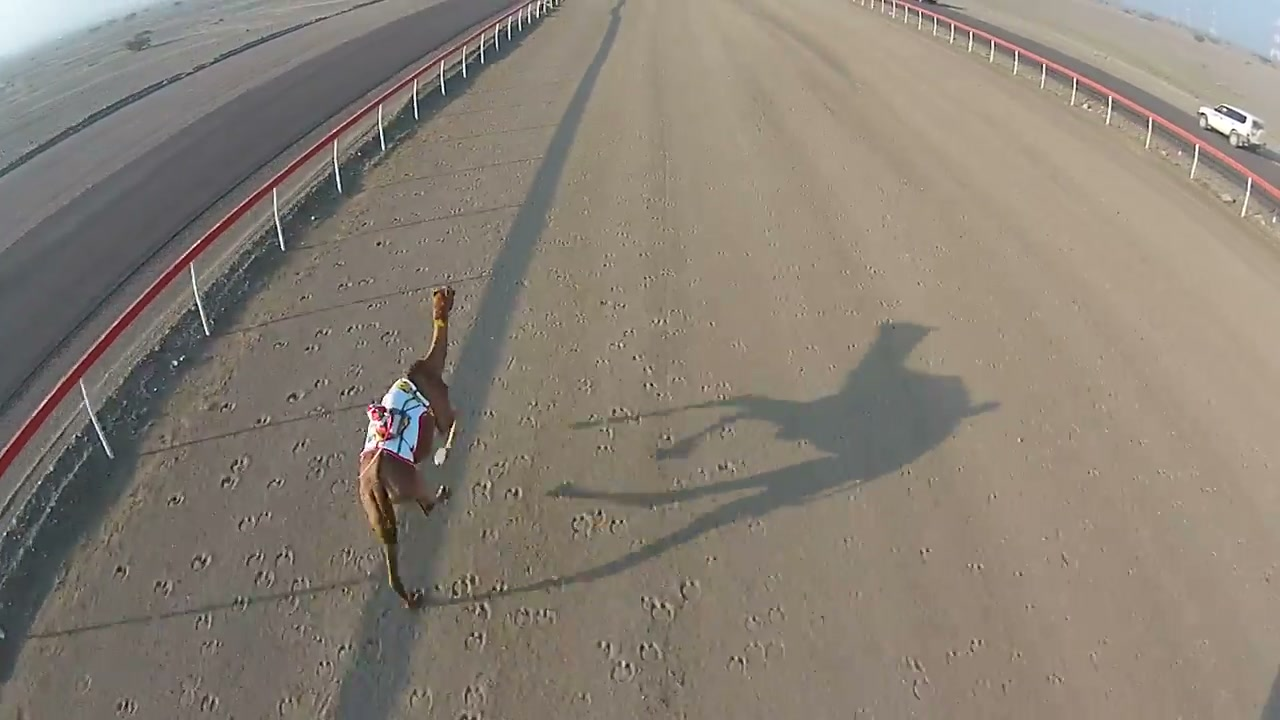animal_foot_print: (95, 246, 393, 715), (400, 357, 779, 719)
